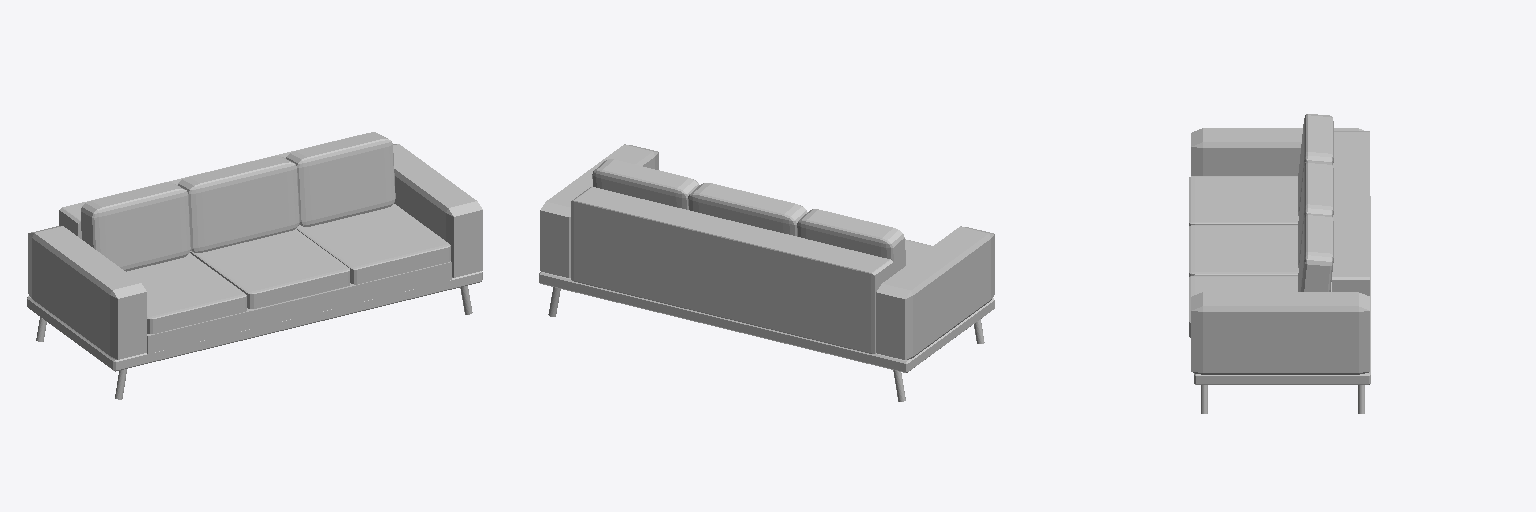
File: sofa1.obj
3 renders of one model, left to right at view 1: azimuth 30°, elevation 25°; view 2: azimuth 150°, elevation 25°; view 3: azimuth 270°, elevation 25°, orthographic.
Visible parts, largest first — view 1: Cylinder.001; view 2: Cylinder.001; view 3: Cylinder.001.
Boxes of the visible parts, x1,y1,x2,y2 form: Cylinder.001: [27, 132, 482, 399]; Cylinder.001: [539, 144, 994, 401]; Cylinder.001: [1189, 114, 1370, 413].
Bounding box in the file's own units: 2 × 0.7519 × 0.8519.